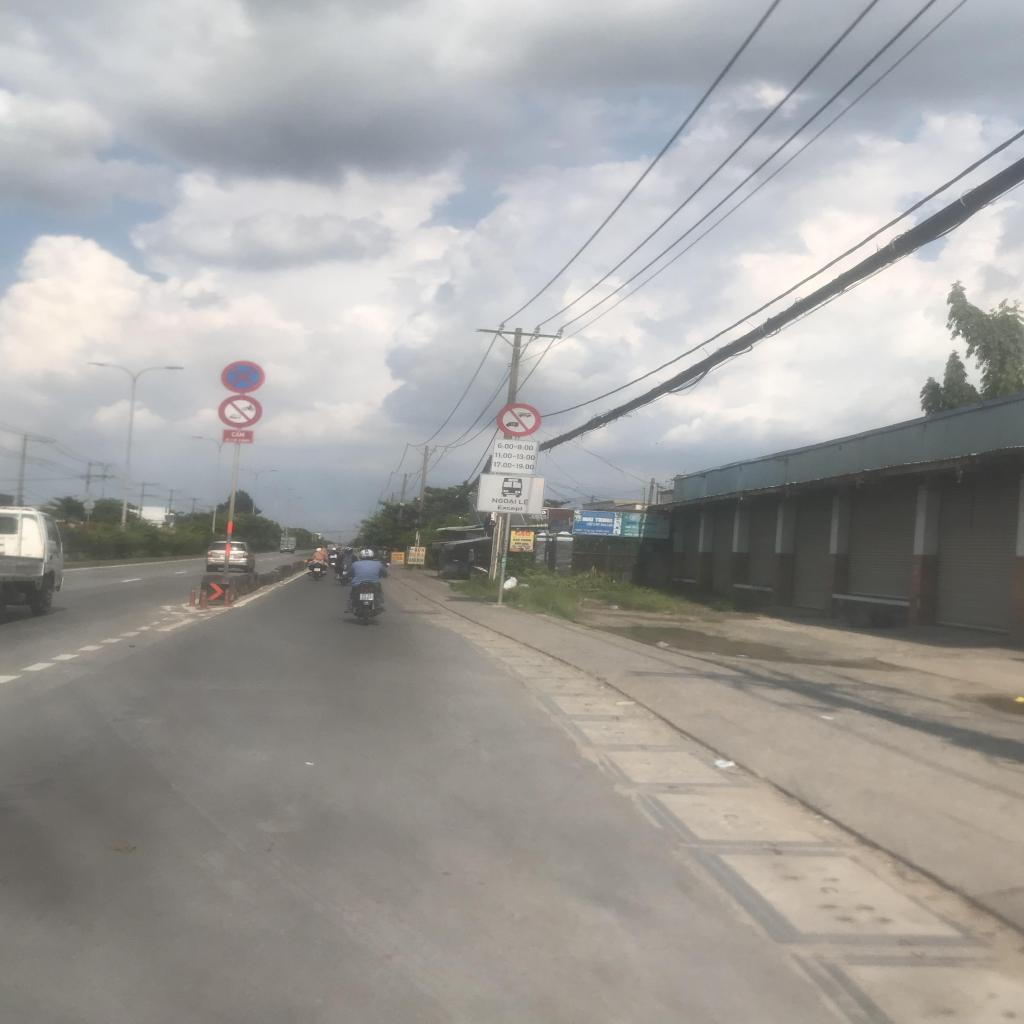cam_dung_xe_va_do_xe: (222, 361, 266, 393)
cam_o_to_tai_va_xe_khach: (496, 403, 541, 437)
cam_xe_2_banh_va_xe_3_banh_co_dong_co: (218, 394, 263, 428)
khac: (477, 474, 546, 514), (489, 440, 539, 476)
